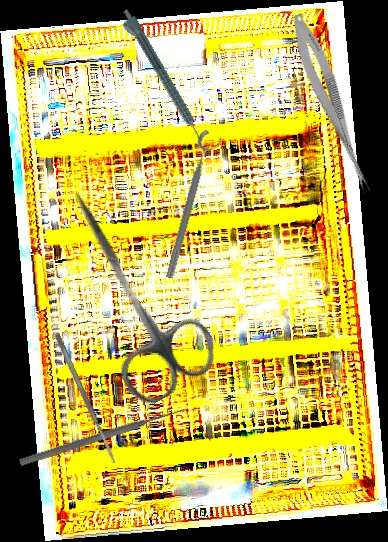Fixation Ring: (161, 128, 225, 283)
Handpiece: (114, 7, 207, 147)
Iris Scissors: (30, 170, 227, 412)
Micro Scissor: (282, 10, 383, 197)
Pusher: (18, 404, 186, 469)
Spatula Surgical: (53, 331, 118, 466)
